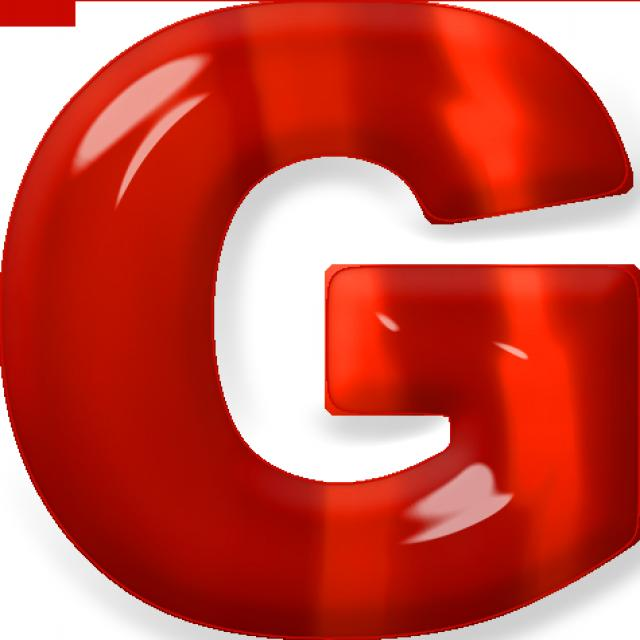G: (1, 4, 635, 640)
